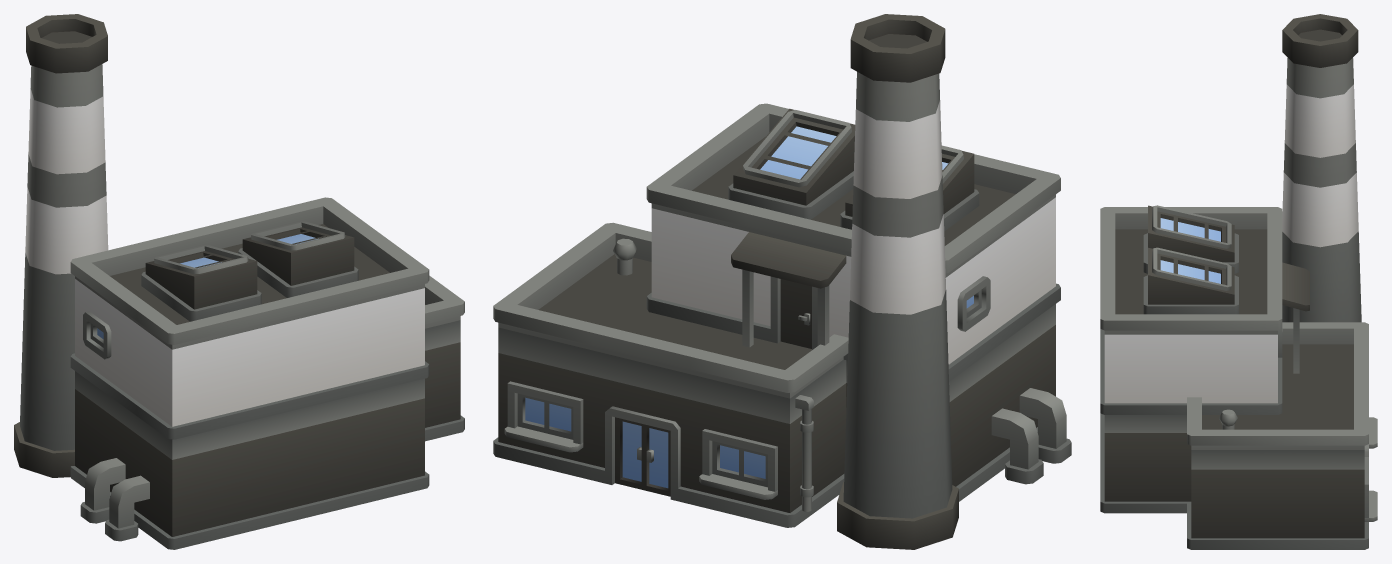
Rendered from ind-building-f.glb.
The picture shows the model from 3 angles, left to right: view 1: azimuth 30°, elevation 25°; view 2: azimuth 150°, elevation 25°; view 3: azimuth 270°, elevation 25°; orthographic projection. The views are drawn at different scales.
Parts seen in each view (by area): view 1: building-f; view 2: building-f; view 3: building-f.
Boxes of the visible parts, left/top/right/bottom form: building-f: left=14, top=14, right=464, bottom=549; building-f: left=493, top=14, right=1071, bottom=549; building-f: left=1100, top=14, right=1377, bottom=549.
Bounding box in the file's own units: 1.79 × 1.92 × 1.28.
1 material, 1 textured.
